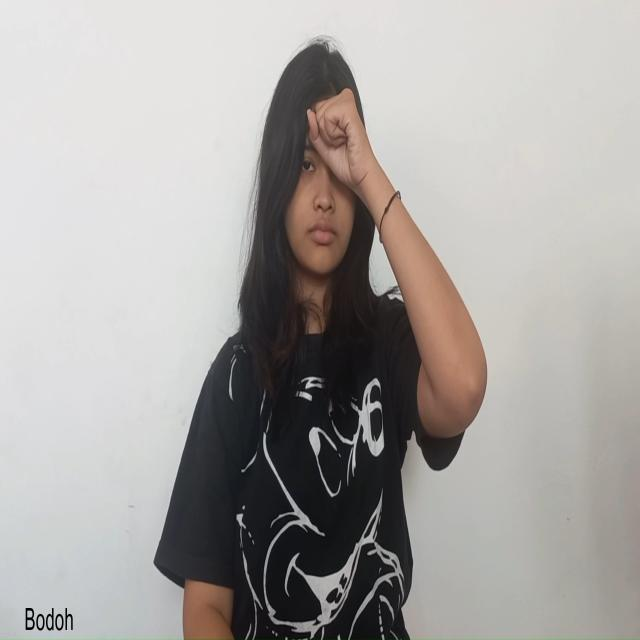Bodoh -BISINDO-: (304, 84, 376, 204)
